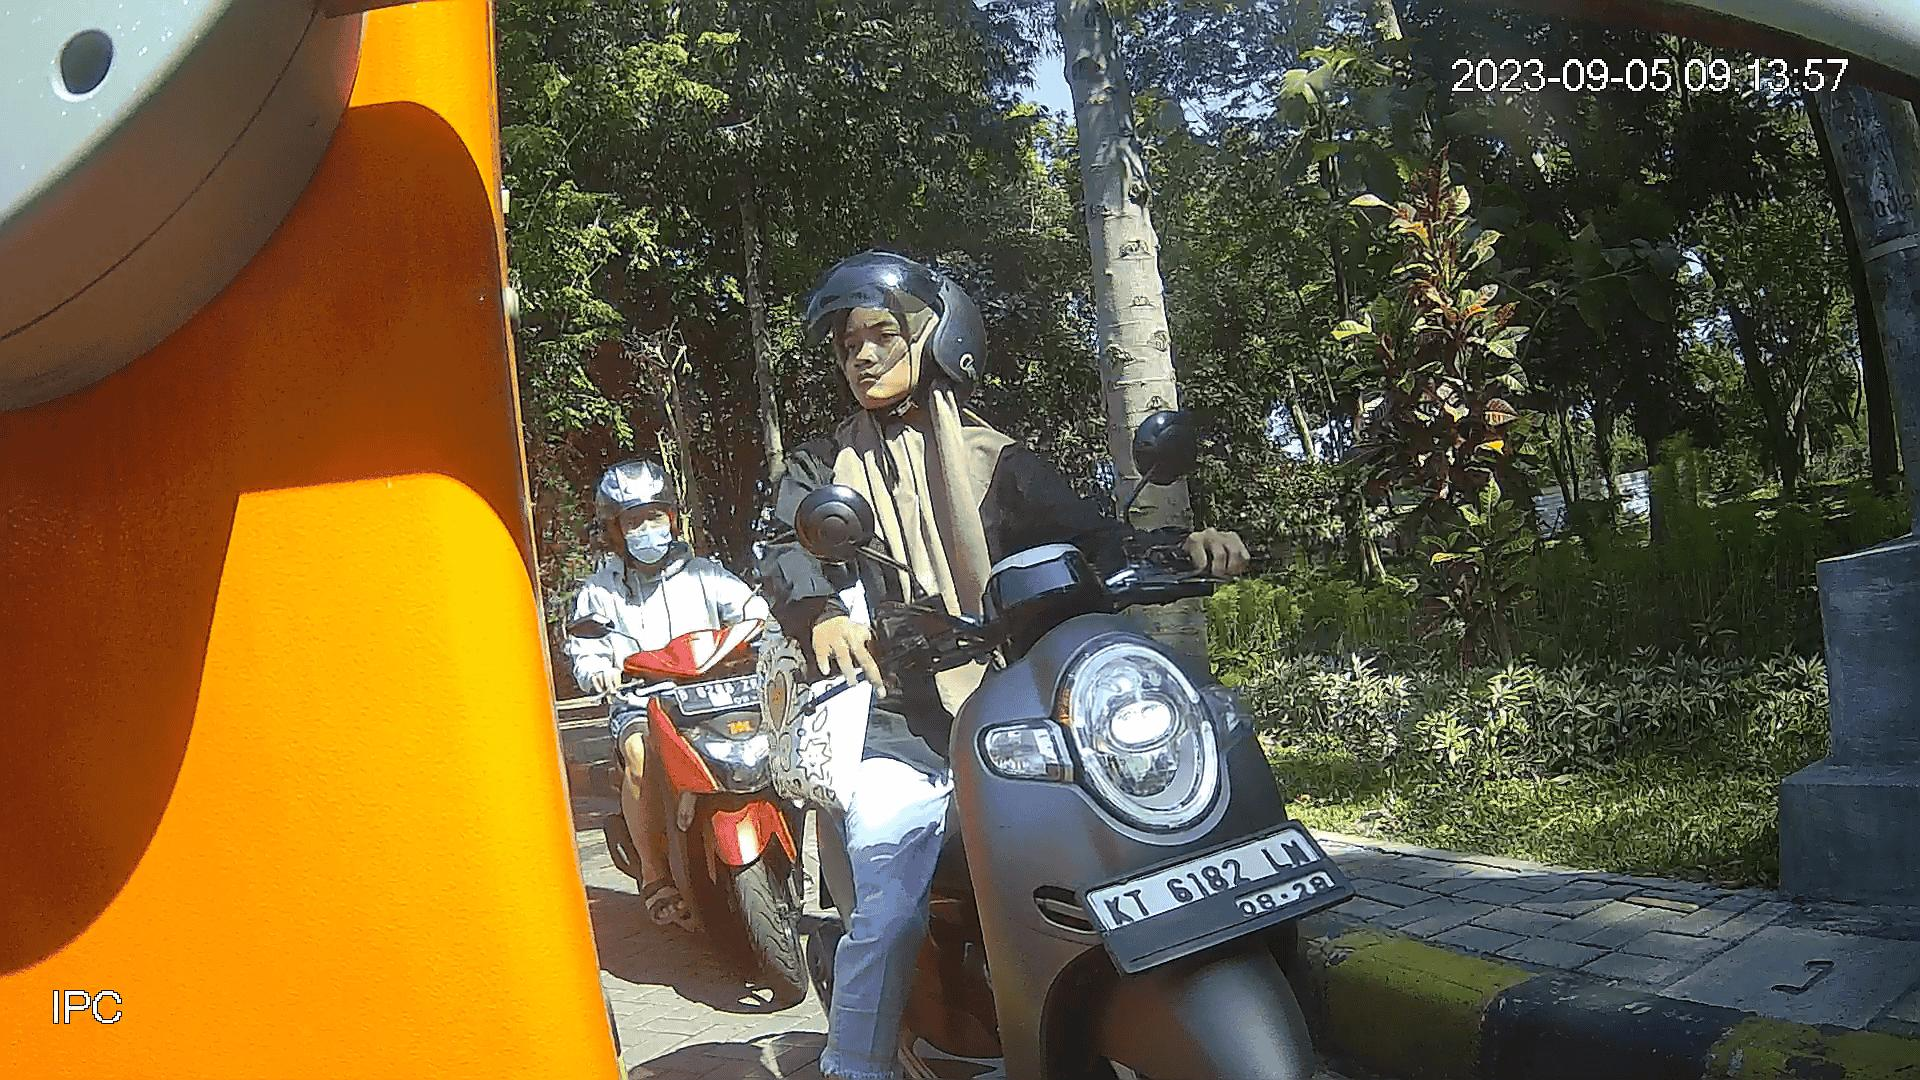plat: (1069, 812, 1364, 981)
